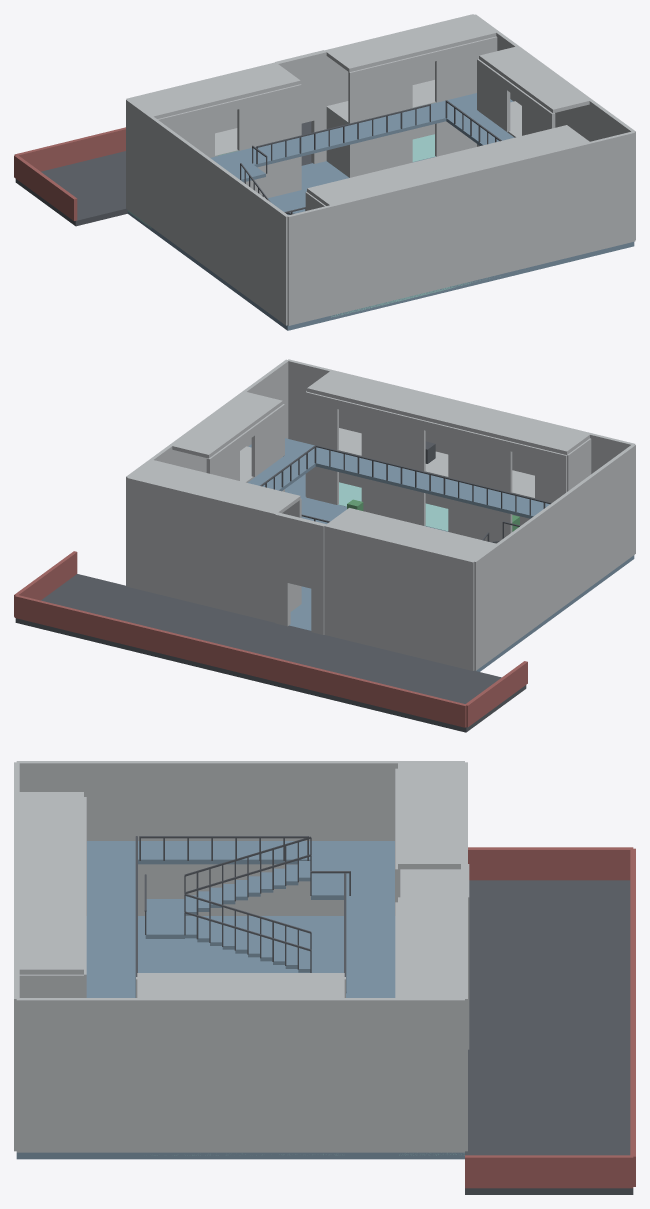
File: liyuan-phase1.glb
3 renders of one model, top to bottom at view 1: azimuth 30°, elevation 25°; view 2: azimuth 150°, elevation 25°; view 3: azimuth 270°, elevation 25°, orthographic. The views are drawn at different scales.
Parts seen in each view (by area): view 1: outer-north, outer-wall--10, gallery-south, street, south-roof-1-5.7, south-roof-1--5.7, courtyard-ground, south-front-1-5.7-1, south-front-1--5.71, east-roof-1, outer-wall-10, south-front-1-5.71 (+19 smaller); view 2: outer-wall--10, street, outer-south--5.7, outer-south-5.7, street-south-boundary, outer-north, gallery-north, south-roof-1--5.7, south-roof-1-5.7, gate-lintel, east-roof-1, courtyard-ground (+27 smaller); view 3: outer-wall-10, street, outer-wall--10, courtyard-ground, gallery-south, gallery-north, south-roof-1--5.7, south-roof-1-5.7, street-end-13, street-end--13, east-roof-1, room-roof-1-2 (+10 smaller).
Boxes of the visible parts, x1=… form: outer-north: x1=287, y1=131, x2=635, y2=325; outer-wall--10: x1=126, y1=99, x2=288, y2=325; gallery-south: x1=210, y1=93, x2=513, y2=170; street: x1=15, y1=121, x2=312, y2=226; south-roof-1-5.7: x1=325, y1=15, x2=496, y2=72; south-roof-1--5.7: x1=130, y1=63, x2=300, y2=118; courtyard-ground: x1=127, y1=156, x2=634, y2=330; south-front-1-5.7-1: x1=348, y1=57, x2=412, y2=123; south-front-1--5.71: x1=237, y1=84, x2=301, y2=150; east-roof-1: x1=479, y1=46, x2=589, y2=113; outer-wall-10: x1=473, y1=14, x2=635, y2=240; south-front-1-5.71: x1=435, y1=36, x2=497, y2=102; outer-wall--10: x1=473, y1=444, x2=635, y2=670; street: x1=15, y1=574, x2=526, y2=732; outer-south--5.7: x1=324, y1=525, x2=474, y2=670; outer-south-5.7: x1=126, y1=476, x2=276, y2=622; street-south-boundary: x1=14, y1=595, x2=466, y2=727; outer-north: x1=288, y1=359, x2=635, y2=525; gallery-north: x1=248, y1=438, x2=549, y2=518; south-roof-1--5.7: x1=325, y1=508, x2=495, y2=561; south-roof-1-5.7: x1=129, y1=459, x2=300, y2=513; gate-lintel: x1=275, y1=512, x2=326, y2=591; east-roof-1: x1=171, y1=391, x2=282, y2=458; courtyard-ground: x1=285, y1=474, x2=634, y2=671; outer-wall-10: x1=16, y1=998, x2=464, y2=1152; street: x1=465, y1=880, x2=633, y2=1194; outer-wall--10: x1=16, y1=761, x2=464, y2=915; courtyard-ground: x1=16, y1=916, x2=464, y2=1159; gallery-south: x1=344, y1=841, x2=394, y2=997; gallery-north: x1=87, y1=841, x2=135, y2=997; south-roof-1--5.7: x1=398, y1=762, x2=464, y2=869; south-roof-1-5.7: x1=398, y1=897, x2=464, y2=998; street-end-13: x1=465, y1=1155, x2=633, y2=1188; street-end--13: x1=468, y1=847, x2=633, y2=880; east-roof-1: x1=137, y1=973, x2=344, y2=998; room-roof-1-2: x1=16, y1=910, x2=83, y2=974.
Size of the model in its own units: 26.2 by 6.31 by 22.2.
